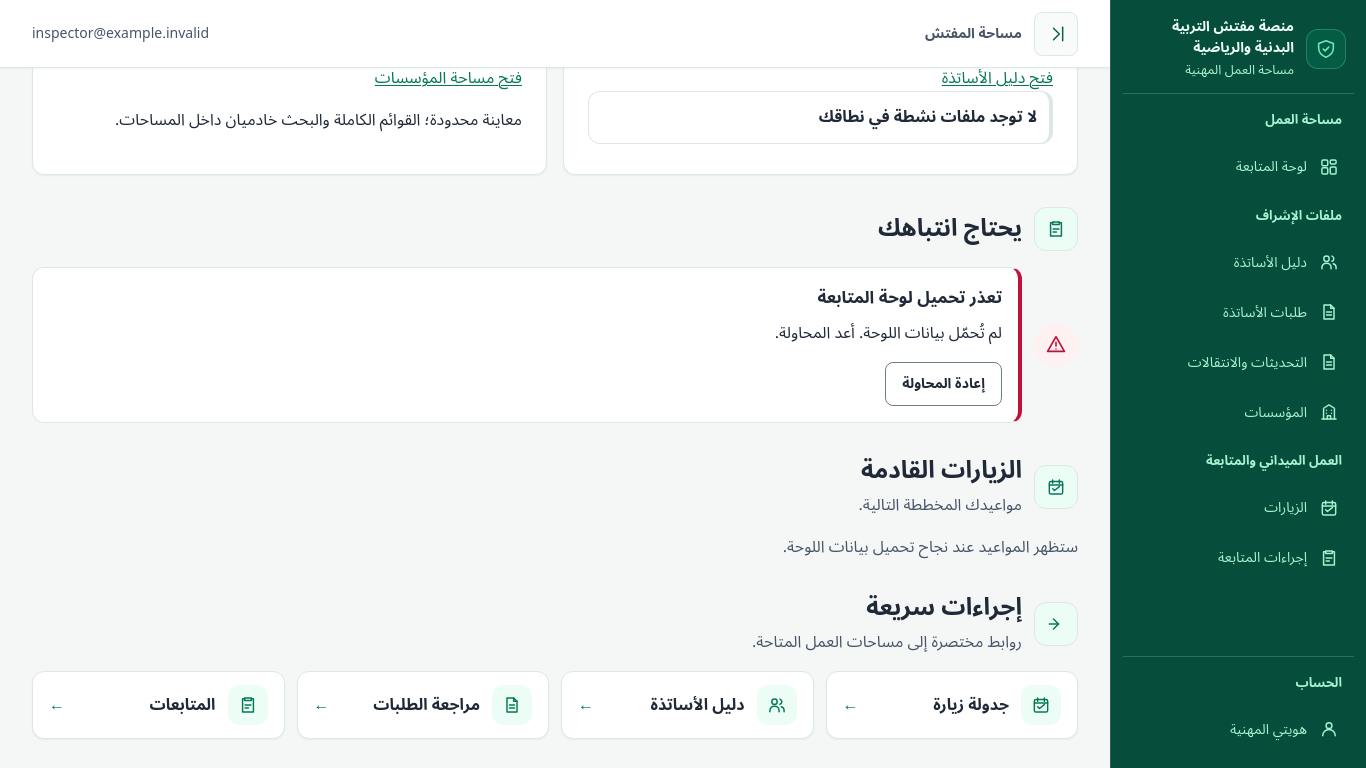
Test: TASK-070B Dashboard presentation › shows a safe error rather than zeros and retries only the aggregate request
The image size is (1366, 768).
(page scrolled)
Check: the message "تعذر تحميل لوحة المتابعة لم تُحمّل بيانات اللوحة. أعد المحاولة. إعادة المحاولة" is shown, box 32,267 -> 1022,423
Check: the heading "تعذر تحميل لوحة المتابعة" is shown, box 817,280 -> 1002,316
Click the button "إعادة المحاولة".
click(944, 384)  # box 885,362 -> 1002,406
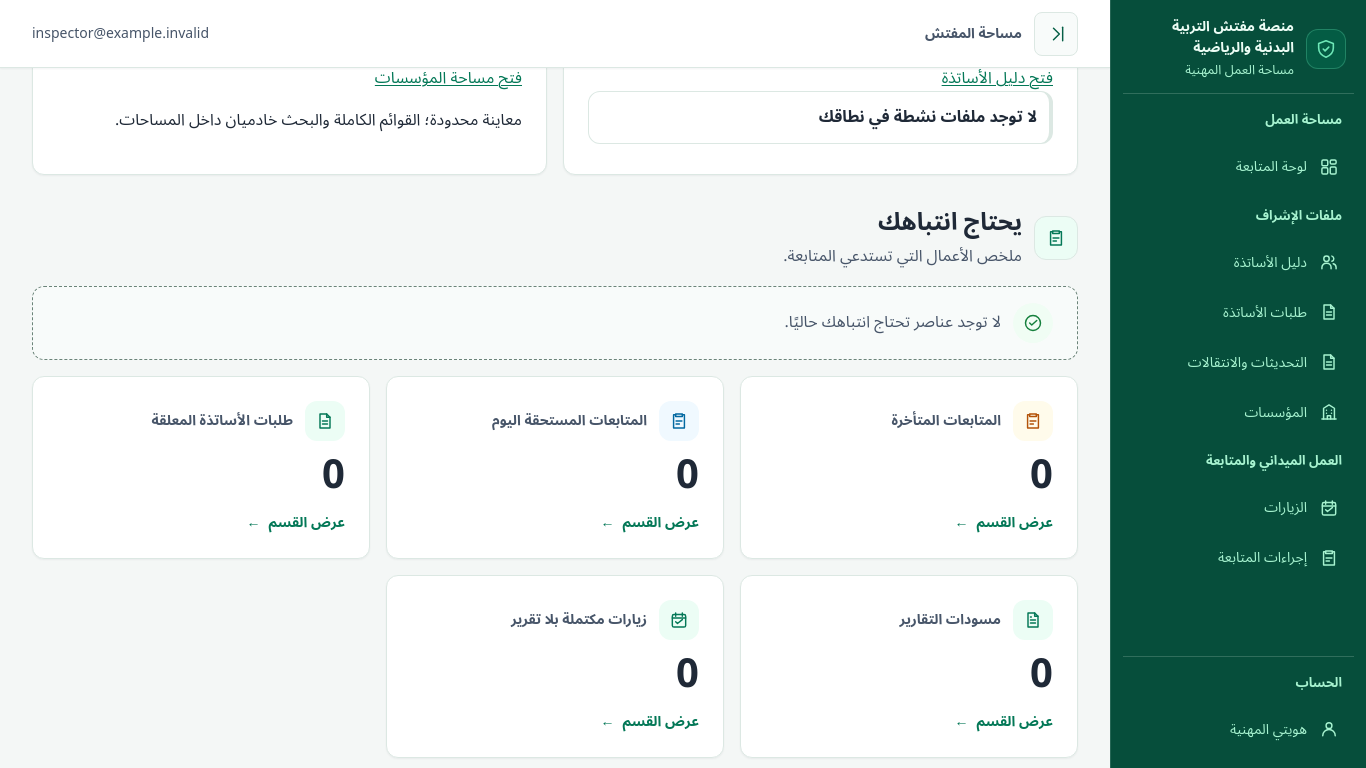
Check: the text "لا توجد عناصر تحتاج انتباهك حاليًا." is shown, box 784,309 -> 1001,336
